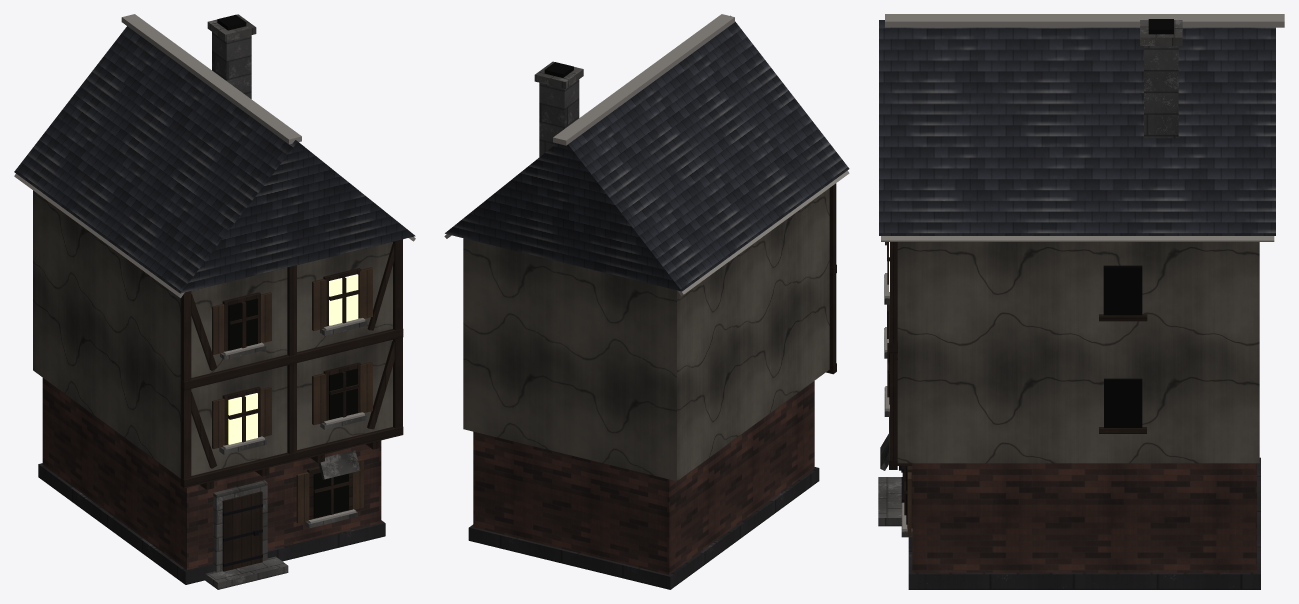
The model's file is CasaConventillo.gltf.
3 views of the same model, side by side, from view 1: azimuth 30°, elevation 25°; view 2: azimuth 150°, elevation 25°; view 3: azimuth 270°, elevation 25° (orthographic). The views are drawn at different scales.
Parts seen in each view (by area): view 1: CasaConventillo; view 2: CasaConventillo; view 3: CasaConventillo.
Part boxes in pixels (box(x1,y1,x2,y2)): CasaConventillo: box(14, 14, 415, 589); CasaConventillo: box(444, 14, 849, 589); CasaConventillo: box(878, 14, 1284, 589).
Bounding box in the file's own units: 6.85 × 12.41 × 8.49.
Materials: 13 (9 with a texture image).
